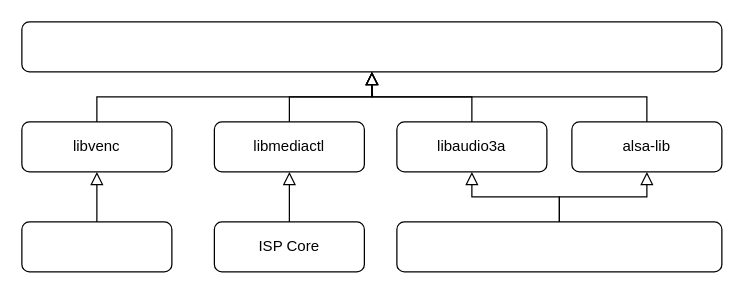
Some shapes in this 744 by 294 pixel diagram are drawn without their labels. The shapes that lost their labels are listed below. From the top down, each one's centre as x and y in pixels, then its label:
point 371,46: application
point 96,246: h264 encoder core
point 559,246: mic
